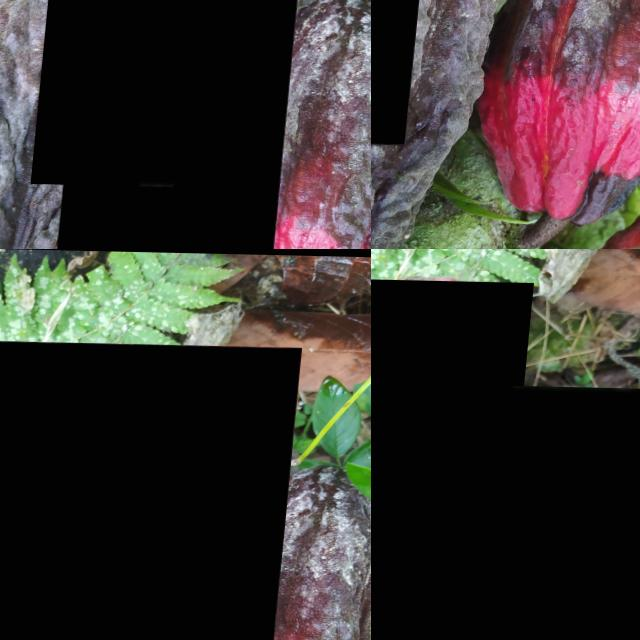Fitoftora: (63, 0, 306, 249), (371, 275, 536, 640), (488, 384, 640, 640)
Monilia: (0, 339, 303, 640)
Sana: (38, 0, 201, 185), (371, 0, 426, 144)
